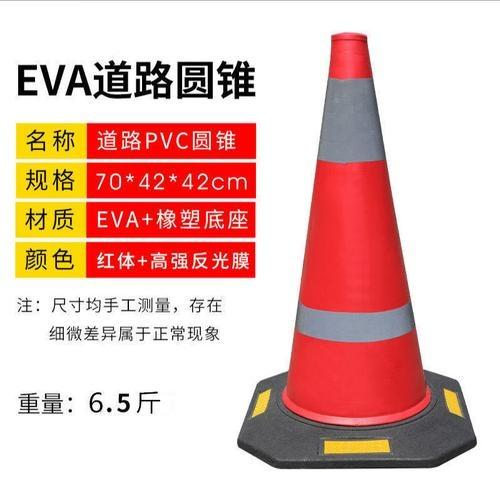cone_barrel: (260, 38, 444, 430)
